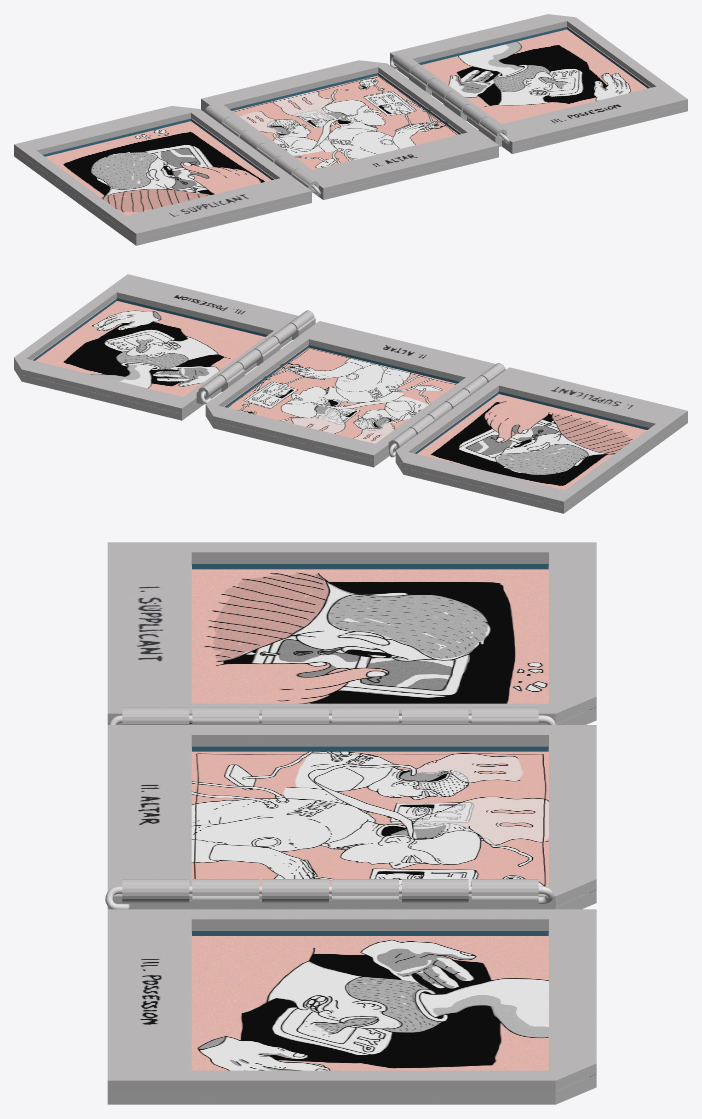
Rendered from fyp-triptych.glb.
3 views of the same model, one above another, from view 1: azimuth 30°, elevation 25°; view 2: azimuth 150°, elevation 25°; view 3: azimuth 270°, elevation 25° (orthographic). The views are drawn at different scales.
Visible parts, largest first — view 1: LEFTCARD, CENTER, RIGHTCARD; view 2: LEFTCARD, CENTER, RIGHTCARD; view 3: RIGHTCARD, CENTER, LEFTCARD.
Boxes of the visible parts, bbox=[...] form: LEFTCARD: bbox=[14, 106, 319, 245]; CENTER: bbox=[201, 60, 506, 199]; RIGHTCARD: bbox=[390, 14, 687, 153]; LEFTCARD: bbox=[395, 363, 687, 513]; CENTER: bbox=[205, 310, 495, 467]; RIGHTCARD: bbox=[14, 274, 298, 420]; RIGHTCARD: bbox=[107, 879, 596, 1104]; CENTER: bbox=[107, 707, 596, 909]; LEFTCARD: bbox=[107, 542, 596, 724].
Size of the model in its own units: 0.2601 by 0.0106 by 0.1003.
4 materials, 3 textured.
